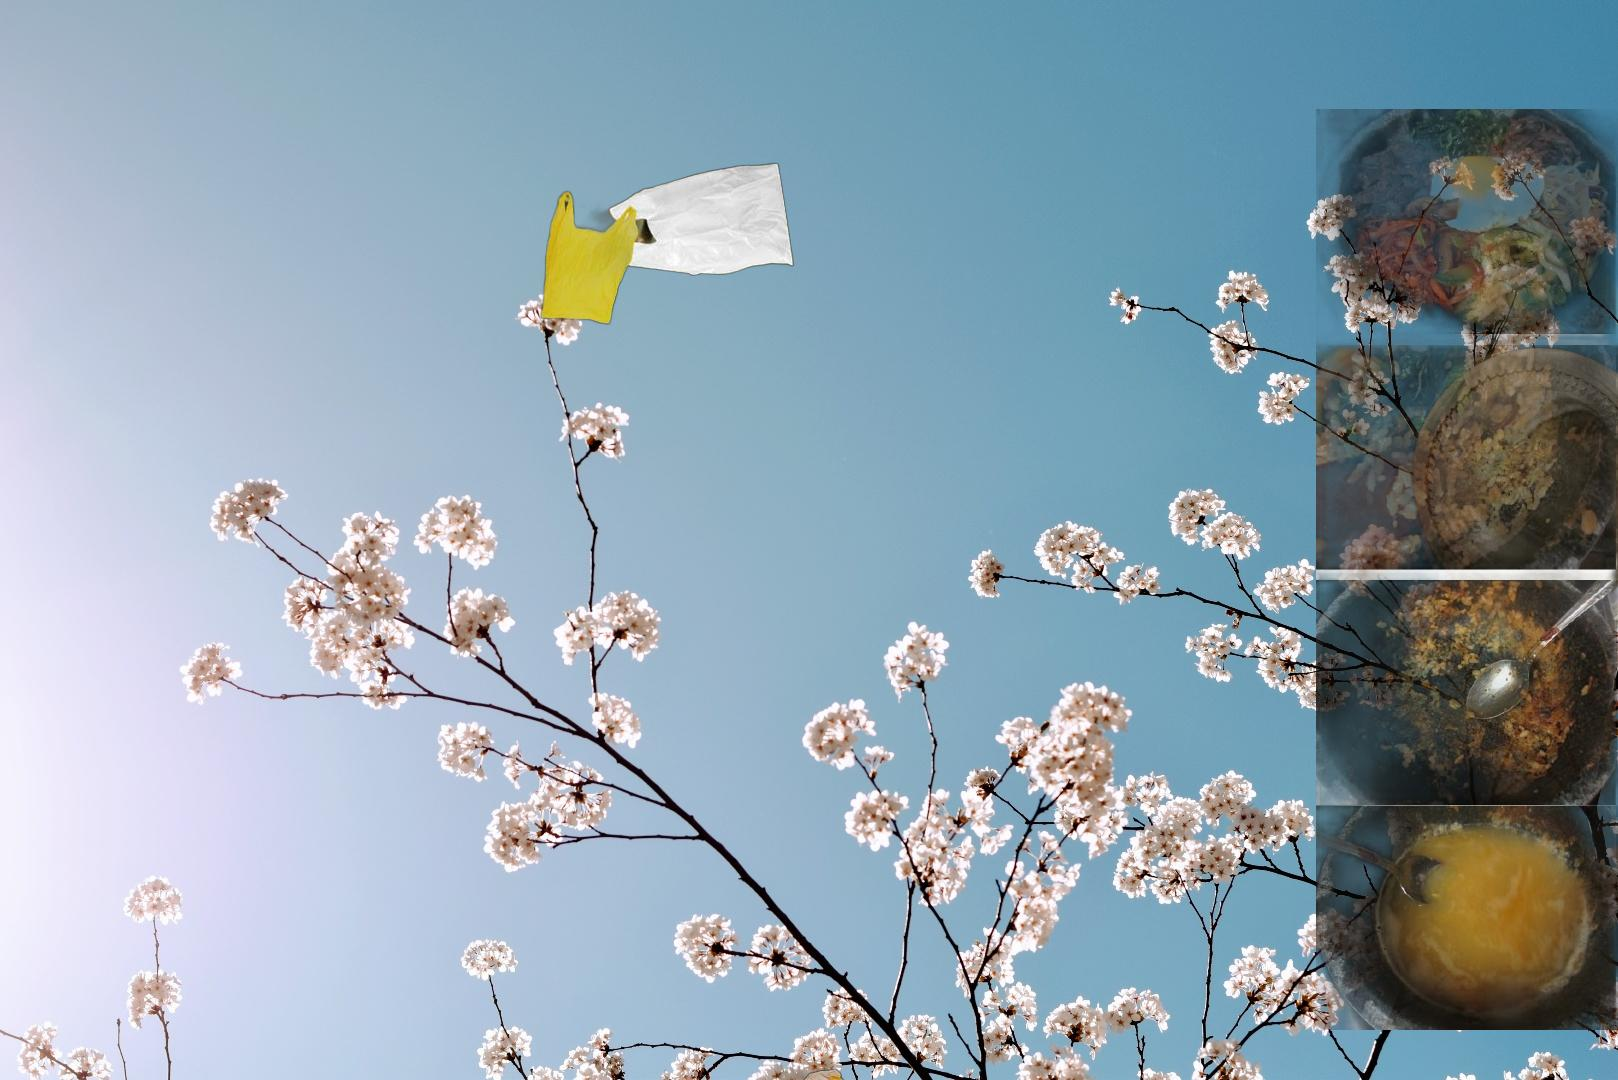biological: (1316, 108, 1618, 1031)
glass: (1408, 344, 1618, 615)
paper: (1518, 481, 1618, 634)
paper-bag: (755, 1066, 940, 1080)
plastic-bag: (534, 160, 798, 350)
